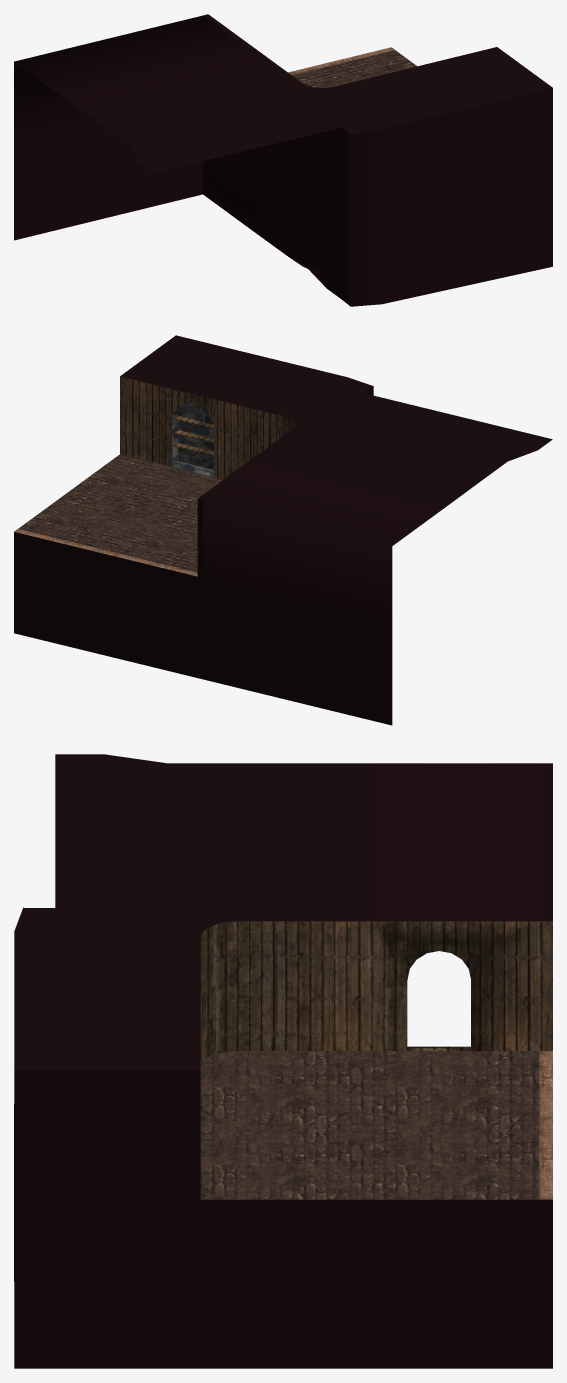
File: Walls.fbx
3 renders of one model, top to bottom at view 1: azimuth 30°, elevation 25°; view 2: azimuth 150°, elevation 25°; view 3: azimuth 270°, elevation 25°, orthographic. The views are drawn at different scales.
Visible parts, largest first — view 1: block; view 2: block; view 3: block.
Part boxes in pixels (bbox=[...]): block: bbox=[14, 14, 552, 306]; block: bbox=[14, 335, 552, 725]; block: bbox=[14, 754, 552, 1368].
Bounding box in the file's own units: 15.69 × 6.91 × 11.32.
